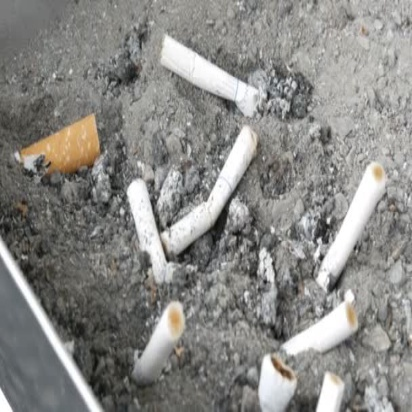cigarette: (162, 121, 260, 264), (313, 157, 388, 293), (156, 33, 272, 119), (124, 171, 196, 287), (13, 111, 106, 182), (122, 296, 189, 391), (277, 299, 361, 353), (251, 353, 299, 411), (312, 367, 351, 408)
